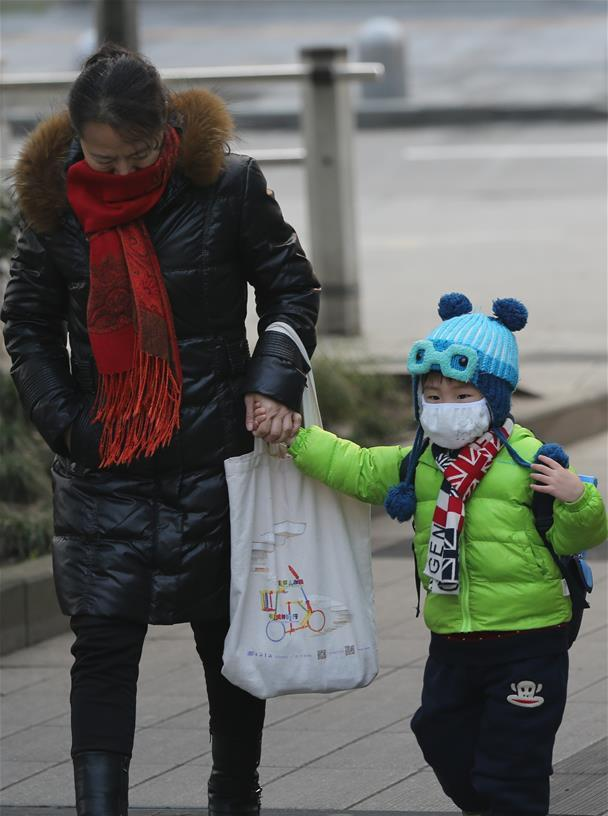OK: (413, 372, 495, 450)
WRONG: (85, 135, 154, 204)
